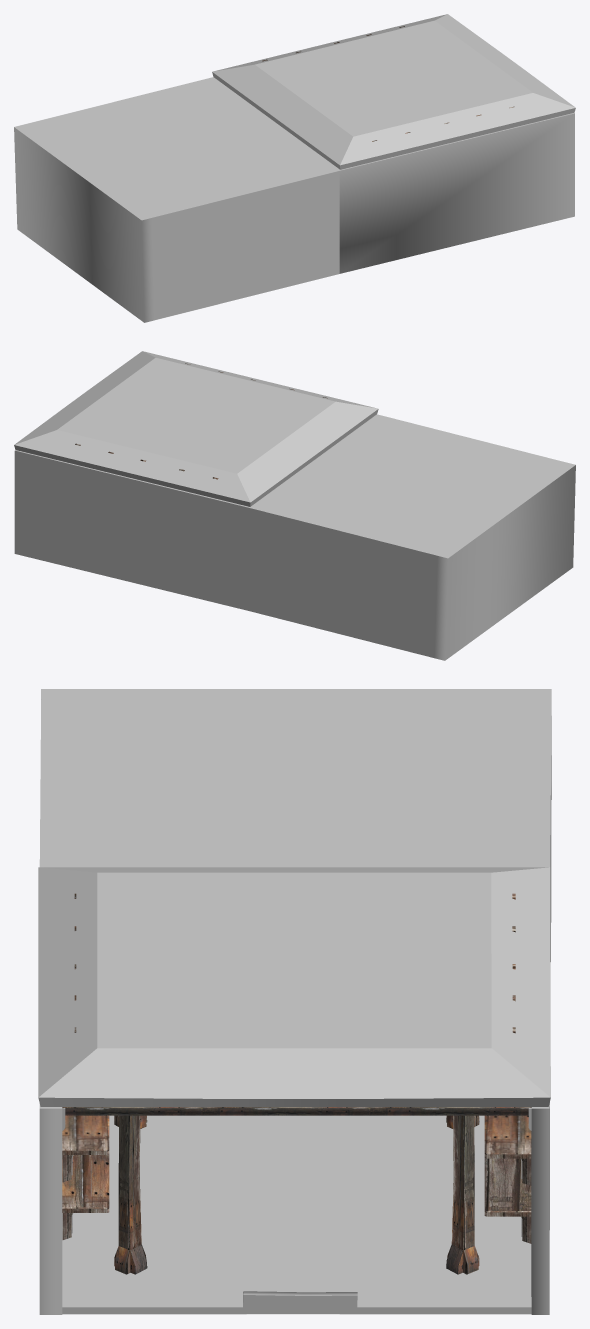
Rendered from DungeonRoomB.fbx.
The picture shows the model from 3 angles, top to bottom: view 1: azimuth 30°, elevation 25°; view 2: azimuth 150°, elevation 25°; view 3: azimuth 270°, elevation 25°; orthographic projection. The views are drawn at different scales.
Parts seen in each view (by area): view 1: DungeonRoomB, DungeonRoomBroof; view 2: DungeonRoomB, DungeonRoomBroof; view 3: DungeonRoomB, DungeonRoomBroof, DungeonRoomBShelves, DungeonRoomBSupports, DungeonRoomBsTeps.
Boxes of the visible parts, bbox=[...] form: DungeonRoomB: bbox=[14, 77, 574, 322]; DungeonRoomBroof: bbox=[212, 14, 575, 169]; DungeonRoomB: bbox=[14, 414, 575, 660]; DungeonRoomBroof: bbox=[14, 351, 378, 506]; DungeonRoomB: bbox=[39, 689, 551, 1314]; DungeonRoomBroof: bbox=[38, 867, 550, 1115]; DungeonRoomBShelves: bbox=[62, 1115, 531, 1243]; DungeonRoomBSupports: bbox=[114, 1115, 479, 1274]; DungeonRoomBsTeps: bbox=[243, 1291, 357, 1313].
Bounding box in the file's own units: 1445 × 386 × 739.
